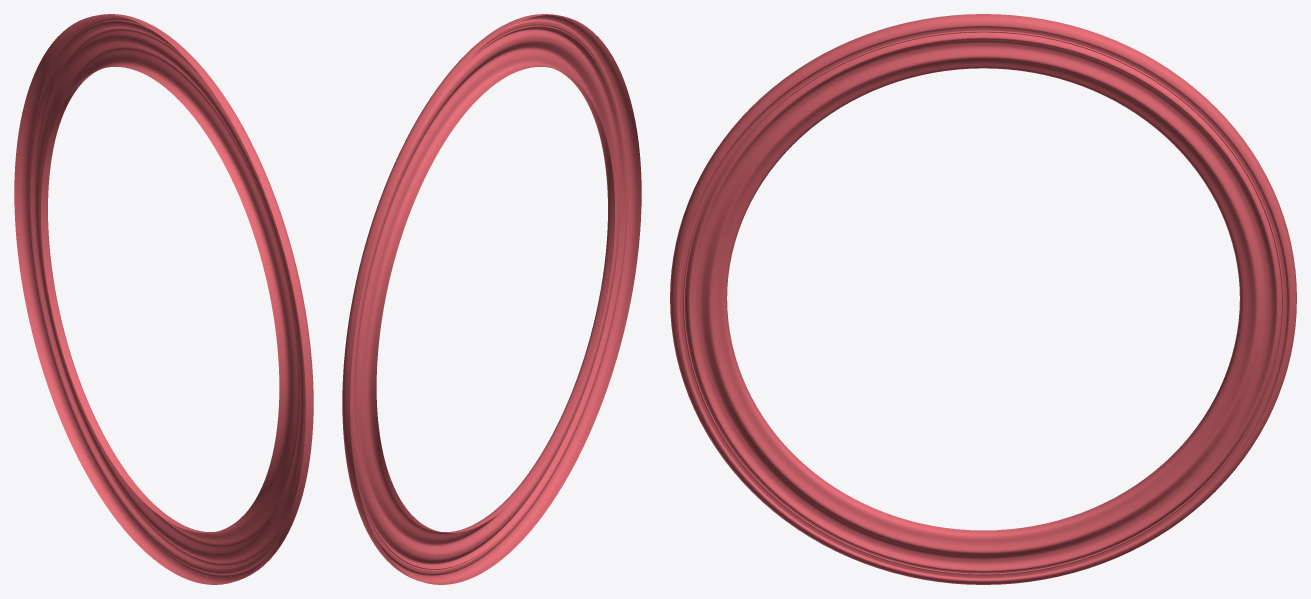
Rendered from CorniceClock.fbx.
The picture shows the model from 3 angles, left to right: view 1: azimuth 30°, elevation 25°; view 2: azimuth 150°, elevation 25°; view 3: azimuth 270°, elevation 25°; orthographic projection. The views are drawn at different scales.
Parts seen in each view (by area): view 1: Cornice; view 2: Cornice; view 3: Cornice.
Part boxes in pixels (bbox=[...]): Cornice: bbox=[14, 14, 313, 584]; Cornice: bbox=[342, 14, 641, 584]; Cornice: bbox=[670, 14, 1296, 584].
Bounding box in the file's own units: 35.88 × 1429 × 1429.
